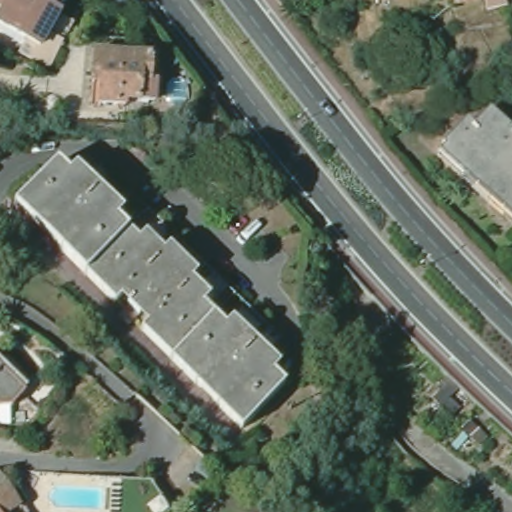pool: (40, 476, 108, 510), (163, 73, 192, 106)
